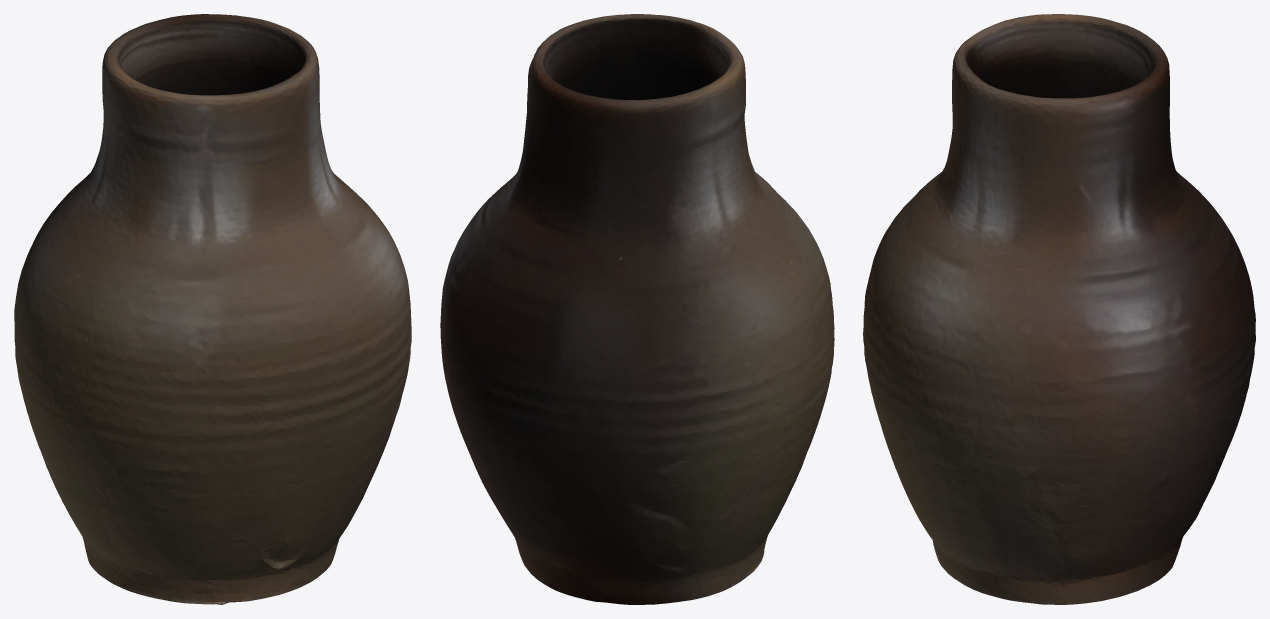
File: ast_5b54d74d8192.glb
3 renders of one model, left to right at view 1: azimuth 30°, elevation 25°; view 2: azimuth 150°, elevation 25°; view 3: azimuth 270°, elevation 25°, orthographic.
Parts seen in each view (by area): view 1: geometry_0; view 2: geometry_0; view 3: geometry_0.
Part boxes in pixels (bbox=[...]): geometry_0: bbox=[14, 14, 411, 604]; geometry_0: bbox=[440, 14, 834, 604]; geometry_0: bbox=[863, 14, 1255, 604].
Bounding box in the file's own units: 0.7181 × 0.9996 × 0.7128.
Materials: 1 (1 with a texture image).
